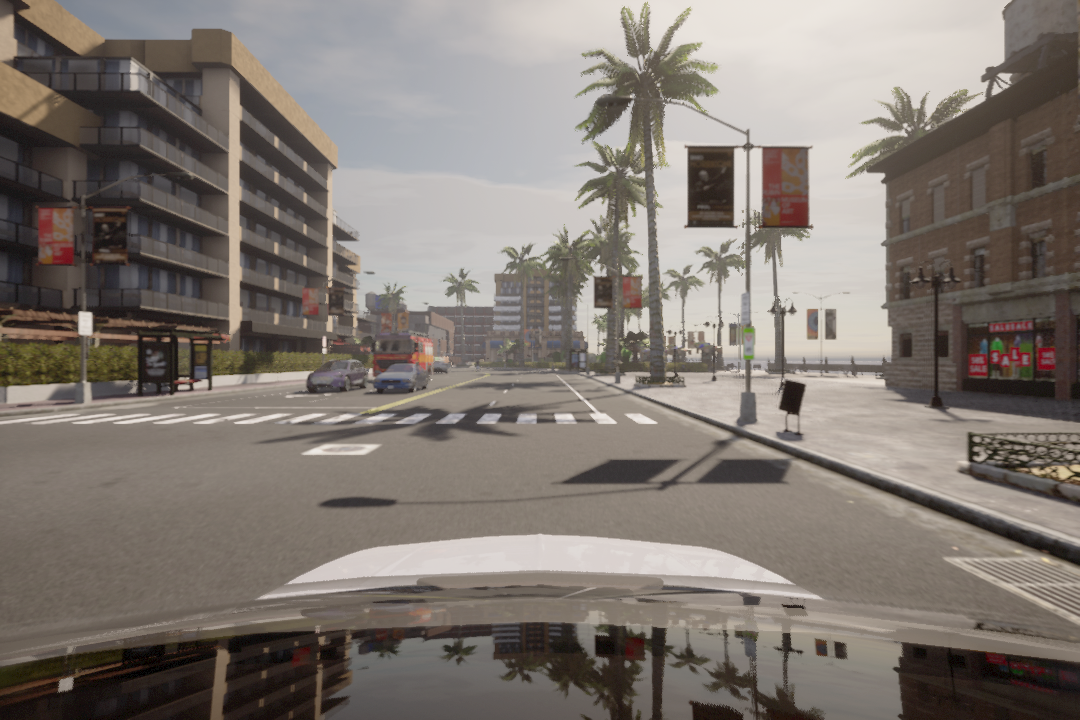walkside: (23, 412, 703, 429)
